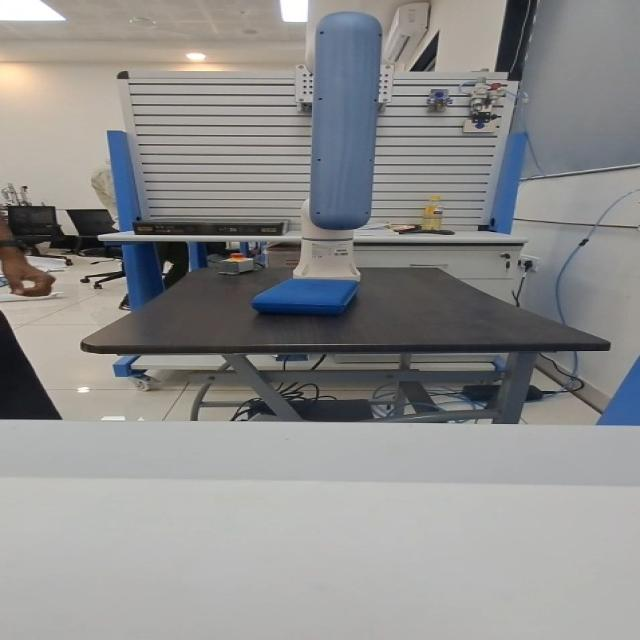top-surface: (274, 280, 348, 296)
